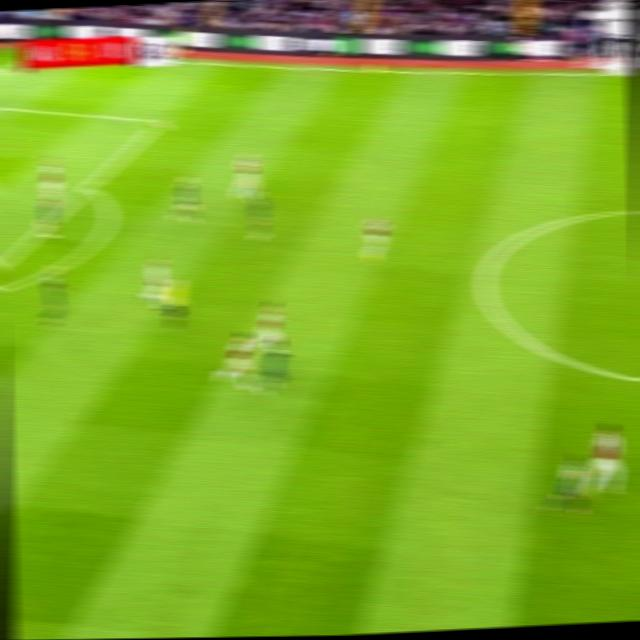bigarea_top_inner: (147, 109, 171, 130)
top_arc_area_intersection: (76, 176, 98, 195)
